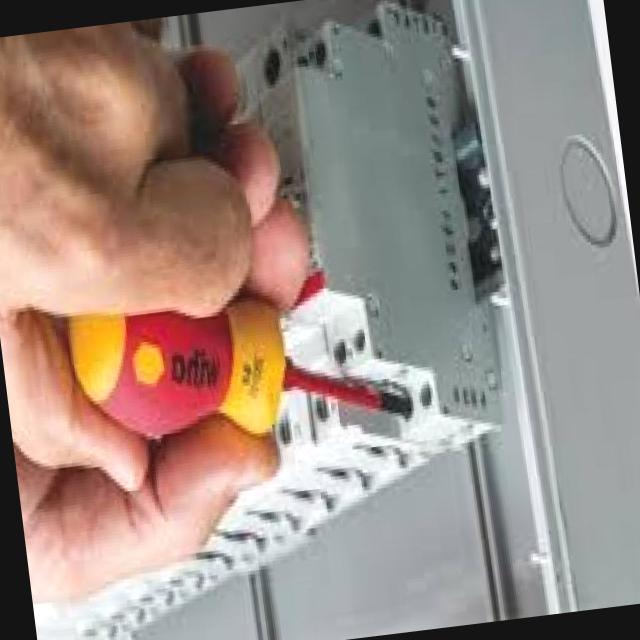screwdriver: (68, 299, 406, 437)
